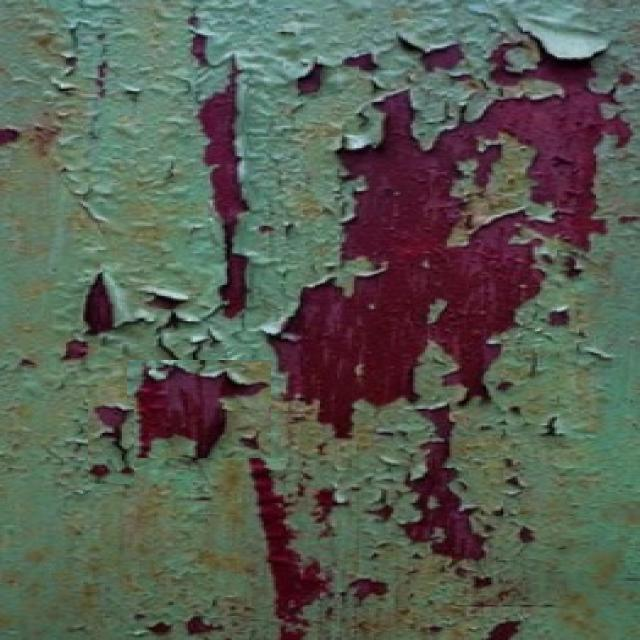Corrosion: (270, 44, 632, 438), (251, 459, 330, 640), (403, 406, 487, 562), (198, 57, 248, 318), (136, 365, 268, 458), (94, 405, 130, 441), (424, 42, 464, 70), (298, 62, 324, 94), (343, 52, 379, 70), (191, 32, 208, 64), (63, 339, 87, 360)
